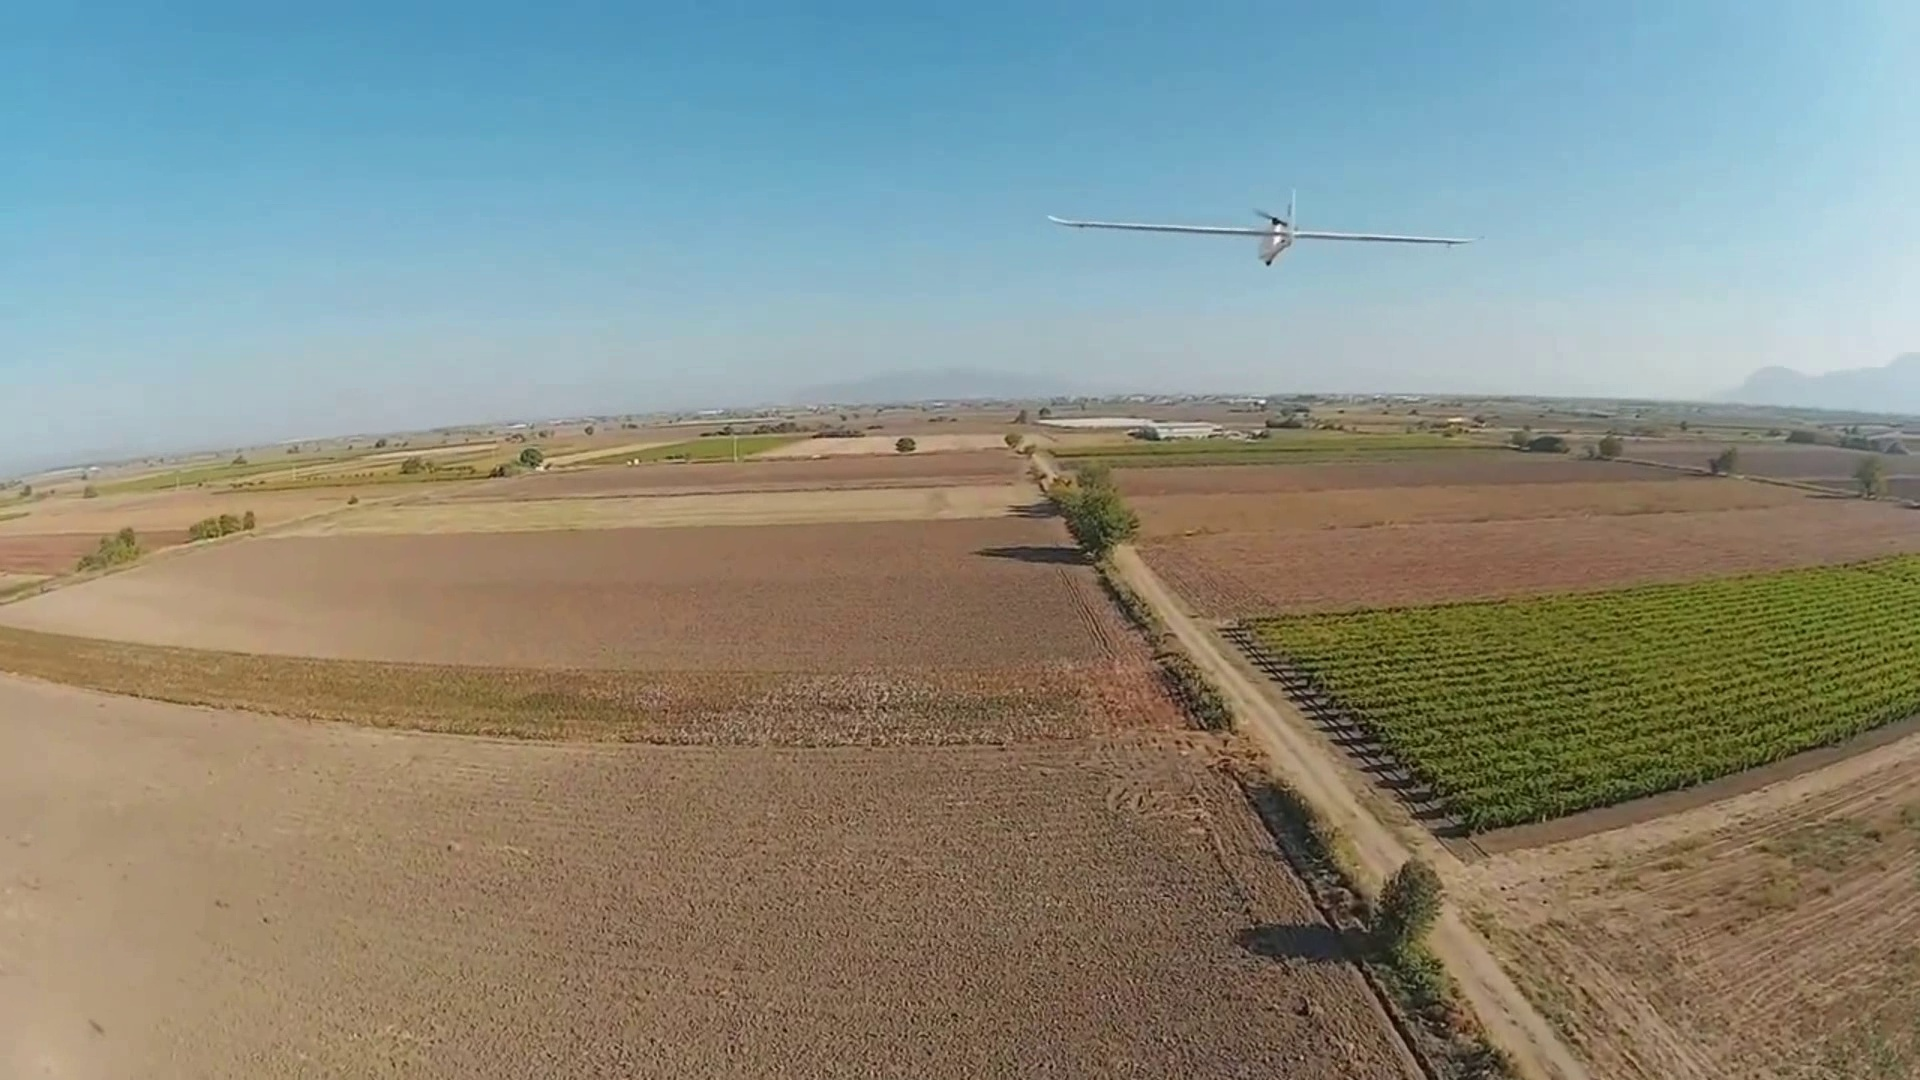airplane: (1044, 196, 1477, 266)
